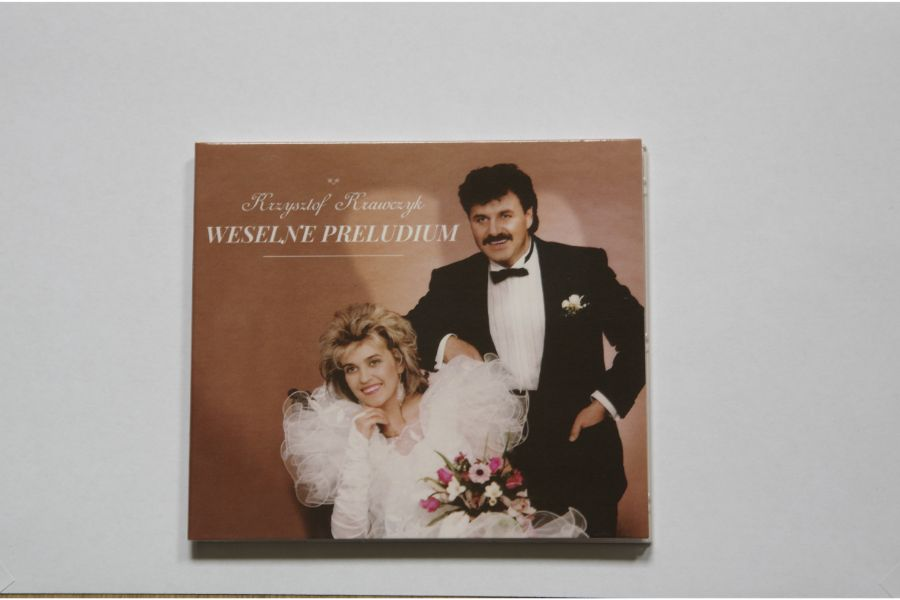album: (189, 140, 653, 545)
